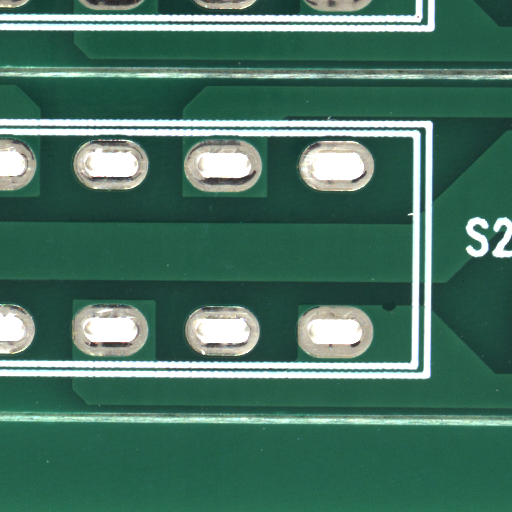Mouse_bite: (388, 306, 403, 315)
